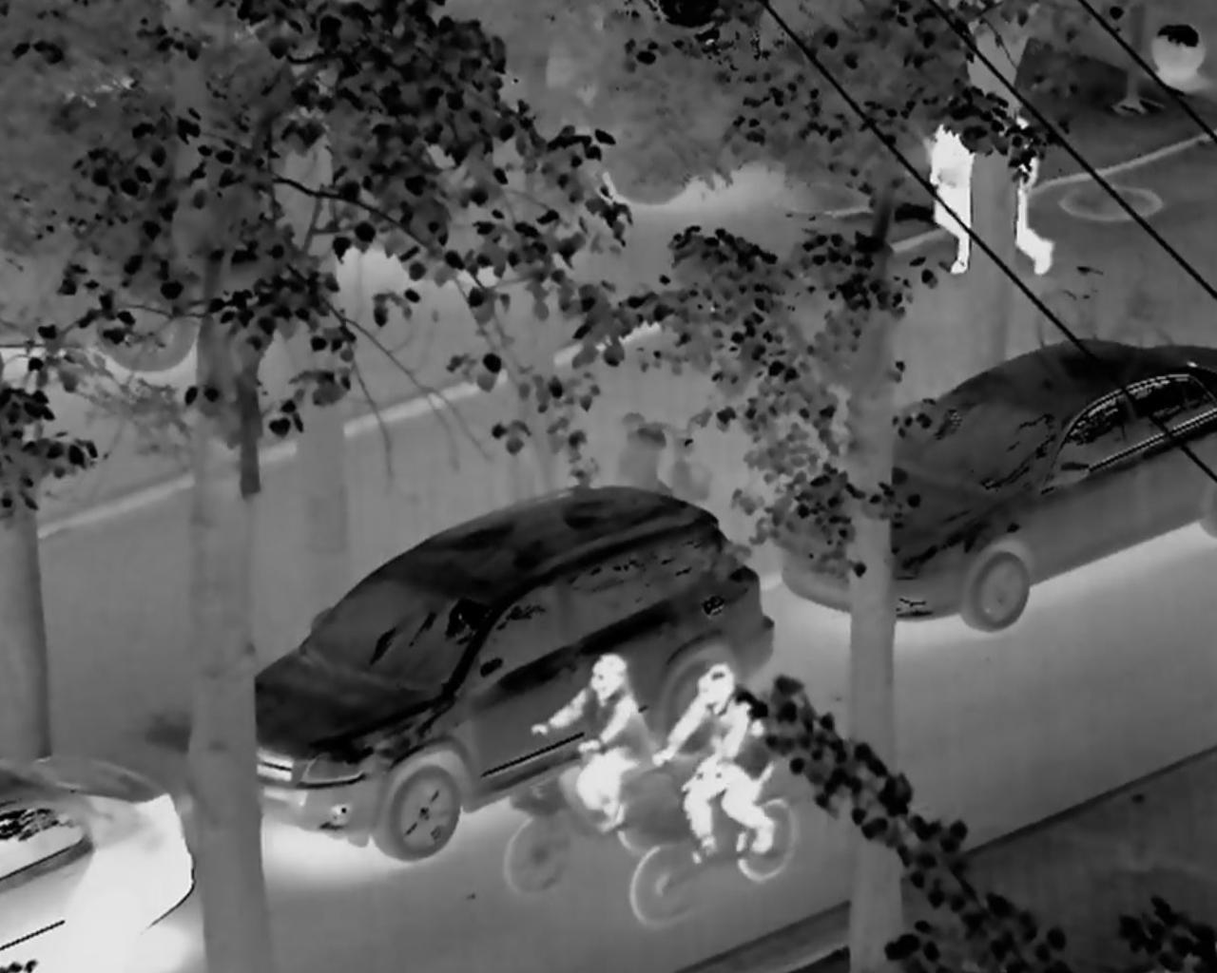person: (493, 658, 666, 878), (659, 659, 797, 875), (903, 78, 987, 271), (1010, 104, 1079, 297)
